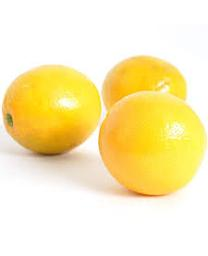lemon: (100, 94, 205, 194), (3, 65, 99, 154), (103, 58, 187, 112)
